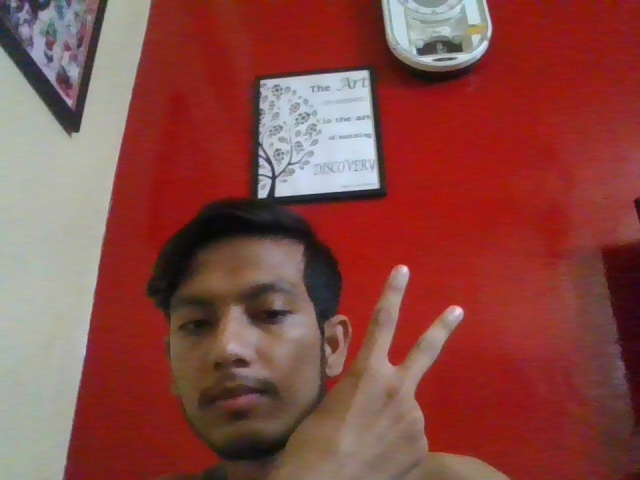LiveLong: (361, 265, 465, 479)
